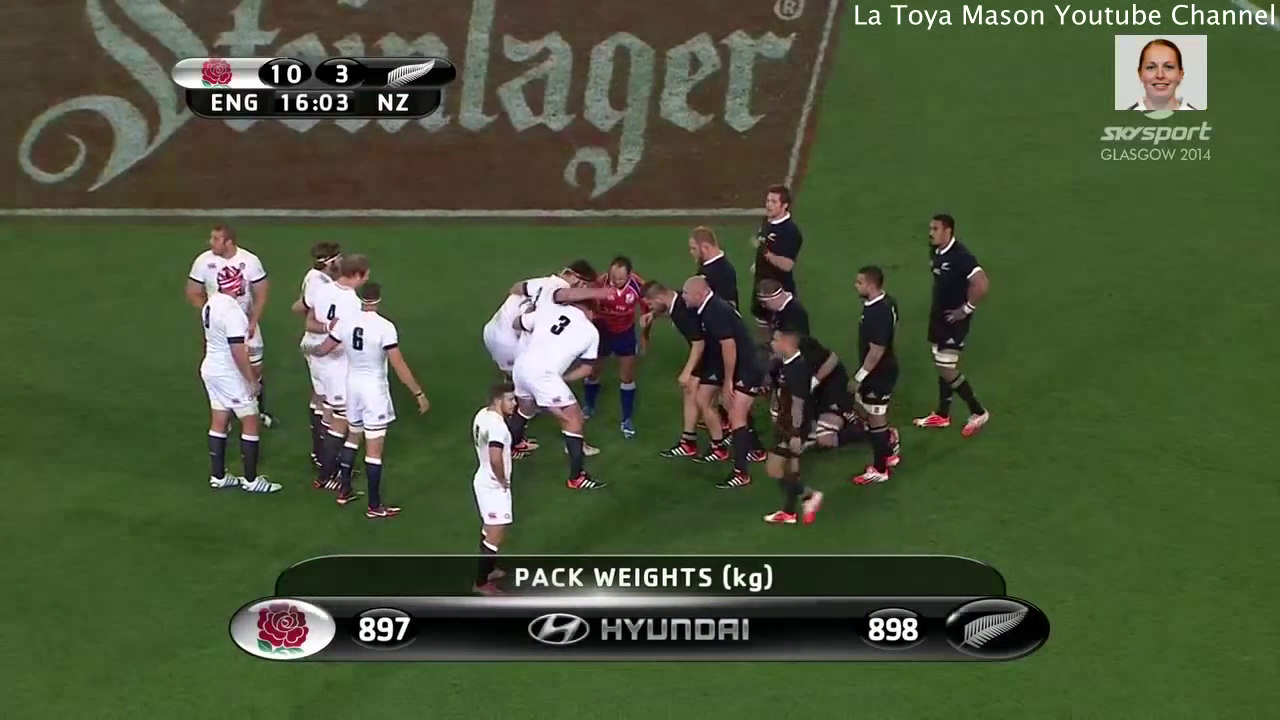player: (193, 266, 289, 497), (507, 293, 614, 497), (913, 210, 1000, 449), (679, 280, 762, 501), (335, 285, 403, 519), (842, 262, 903, 489), (761, 328, 826, 536), (580, 252, 645, 443), (308, 255, 352, 506), (463, 384, 516, 559), (297, 241, 329, 482), (180, 224, 281, 292), (744, 187, 807, 282), (681, 229, 737, 297), (644, 283, 677, 332)
